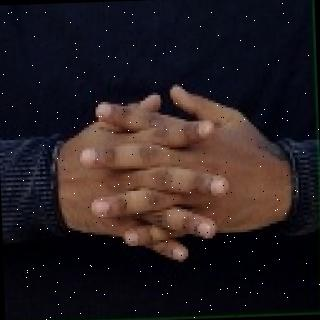W: (54, 73, 288, 280)
